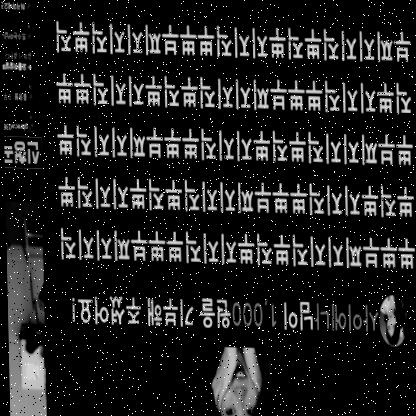donation: (48, 1, 416, 416)
